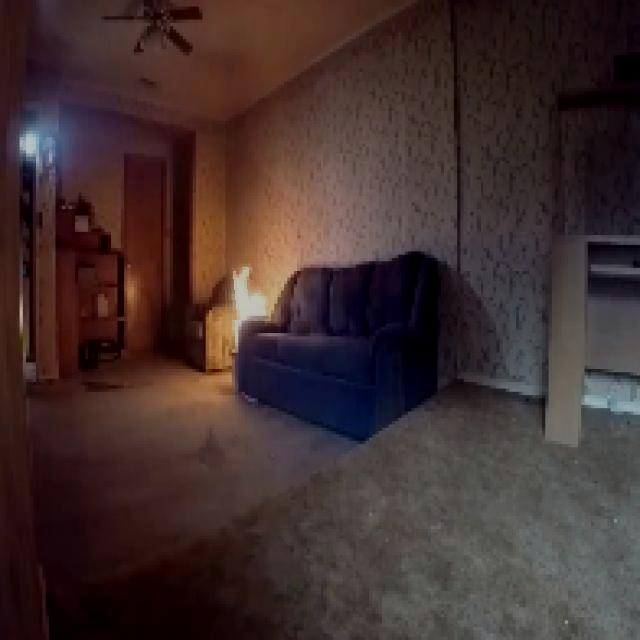fire: (223, 259, 276, 340)
